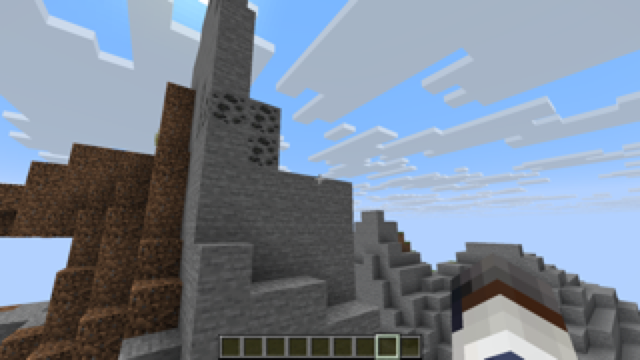coal: (202, 90, 282, 171)
